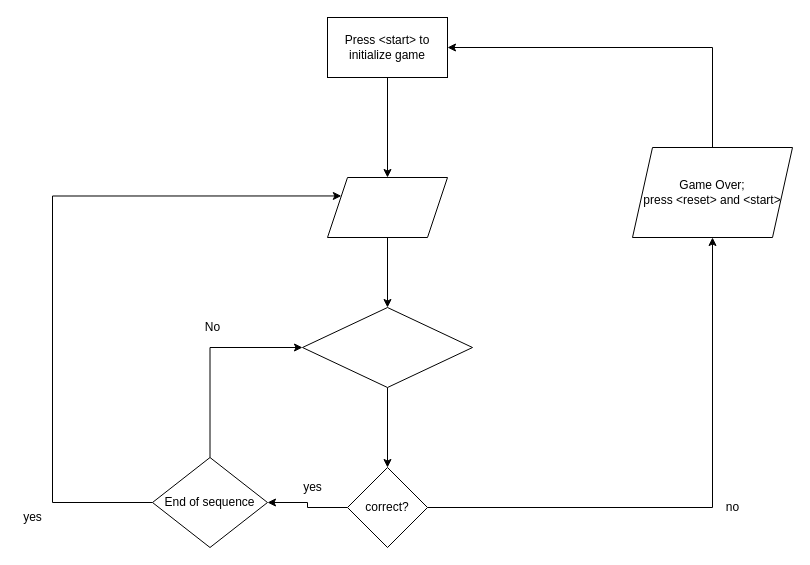
Image size: 810x565. Some labels were removed from this diagram. The shapes that lost their labels are listed below. From the top down, each one's centre as x and y in pixels, then its label:
At pixel 387 207: "Show random sequence".
At pixel 387 347: "player chooses pad".
